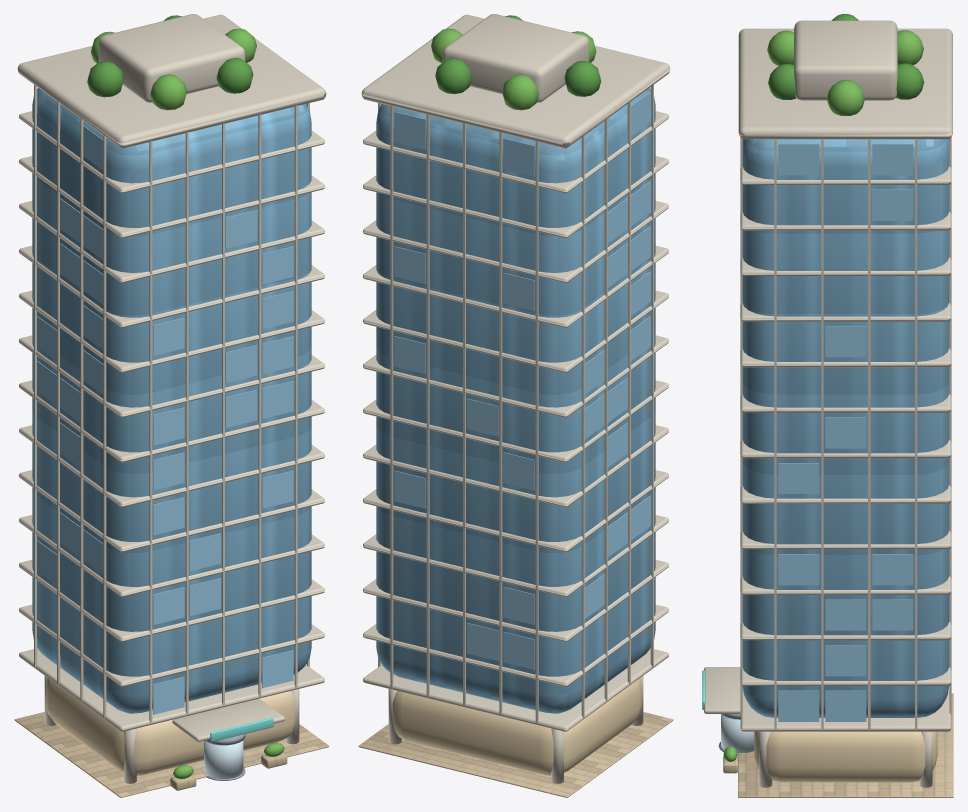
Rendered from tower_a.gltf.
The picture shows the model from 3 angles, left to right: view 1: azimuth 30°, elevation 25°; view 2: azimuth 150°, elevation 25°; view 3: azimuth 270°, elevation 25°; orthographic projection.
Parts seen in each view (by area): view 1: tower_a_mesh; view 2: tower_a_mesh; view 3: tower_a_mesh.
Boxes of the visible parts, x1,y1,x2,y2 form: tower_a_mesh: (14,14,329,797); tower_a_mesh: (358,14,673,797); tower_a_mesh: (702,14,953,797).
Size of what is drawn, in the model's own units: 16.6 by 52.5 by 17.02.
10 materials, 2 textured.
